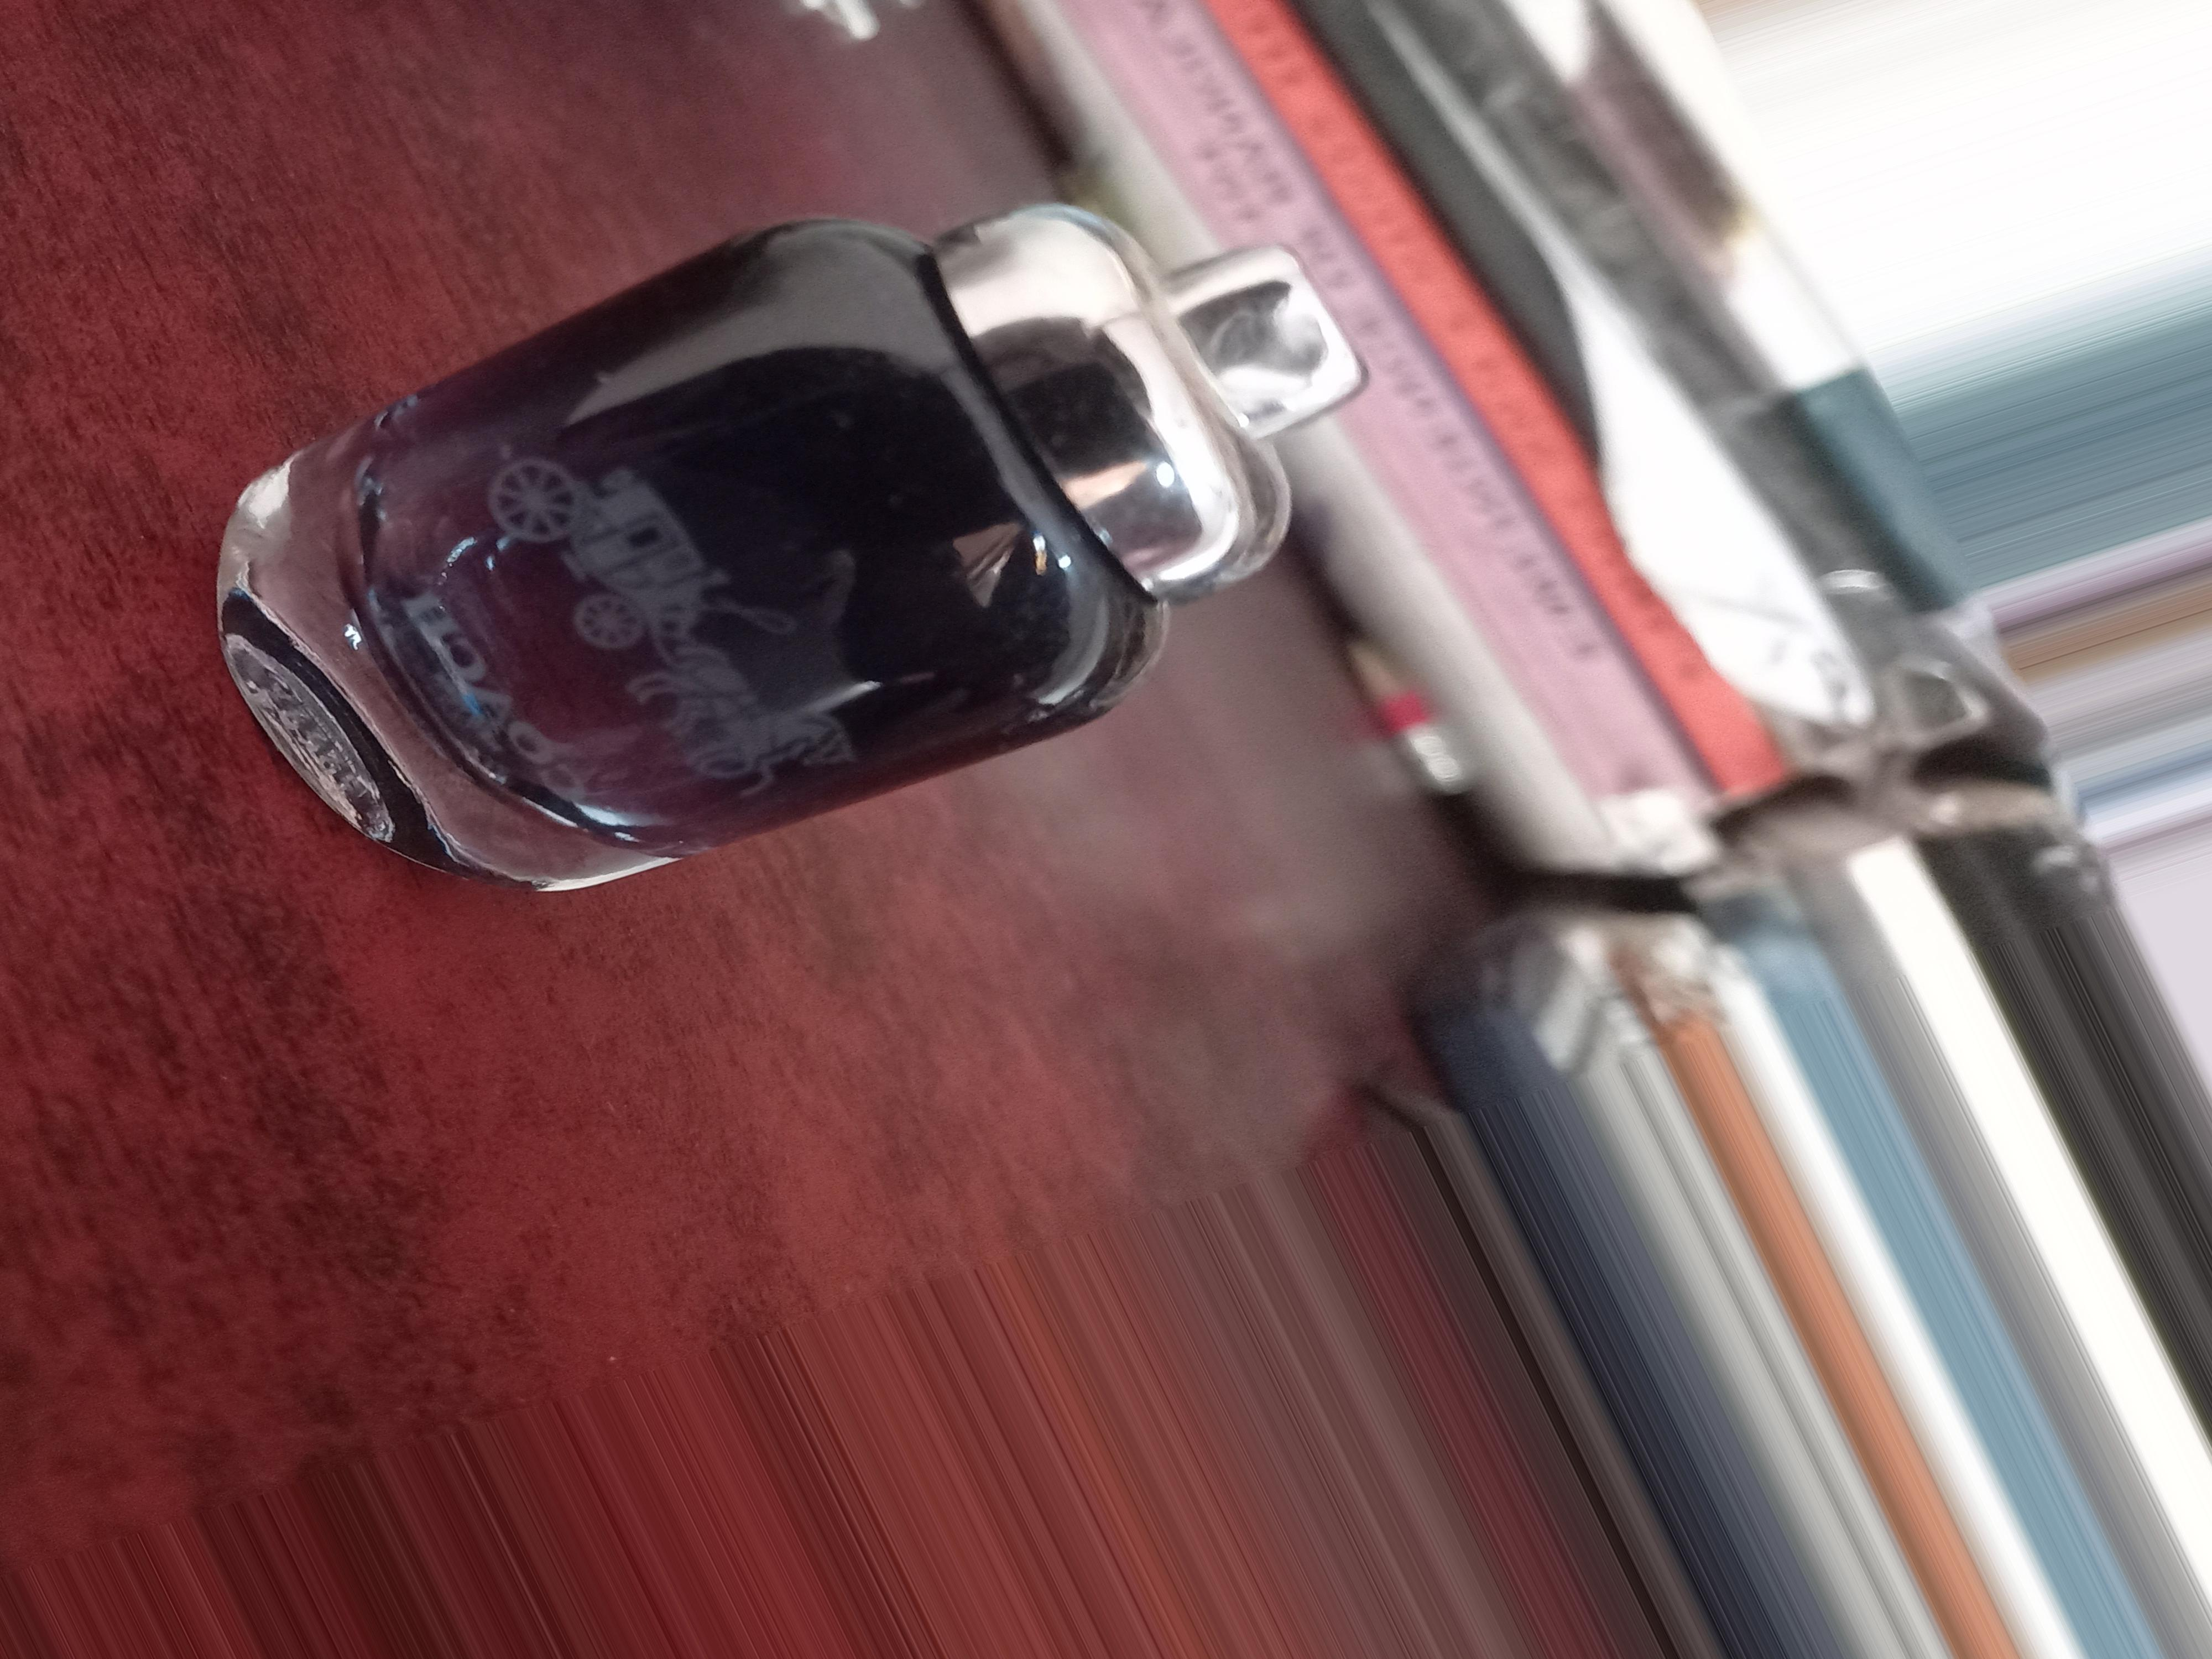perfume: (253, 190, 1329, 957)
